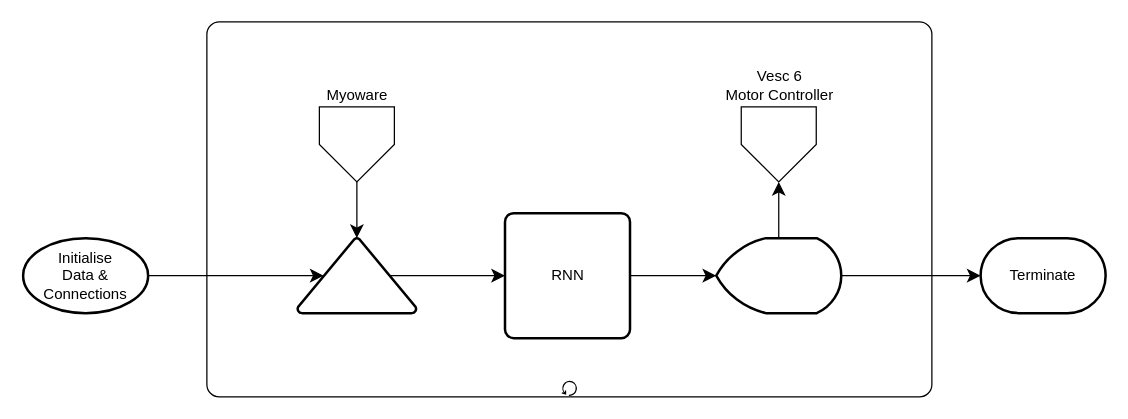
This 1128x419 diagram has some shape labels left out. The shapes that lost their labels are listed below. From the top down, each one's centre as x and y in pixels, then its label:
At [356,275]: "FPGA Data Input".
At [778,275]: "CAN Buss".
